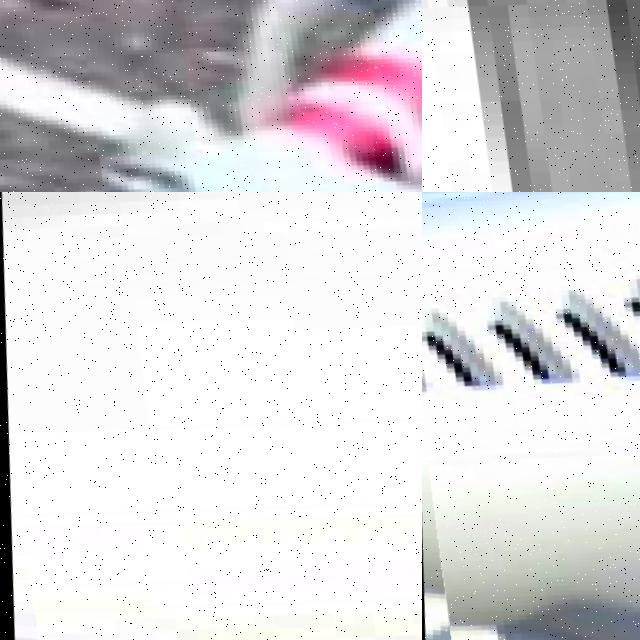drone: (0, 192, 422, 640), (422, 192, 640, 640), (0, 0, 422, 192), (422, 0, 640, 192)
